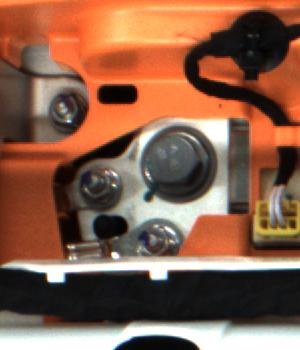nut_b: (143, 132, 231, 201)
screw_s: (43, 91, 86, 137), (81, 168, 121, 204), (134, 220, 171, 254)
